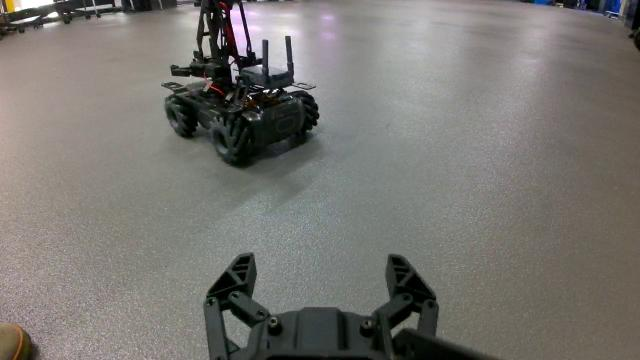robot: (161, 0, 320, 165)
